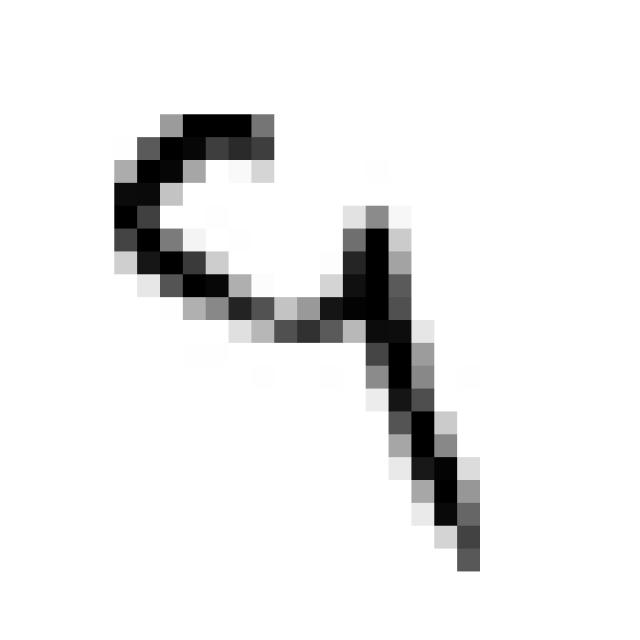9 -nine-: (85, 85, 502, 595)
